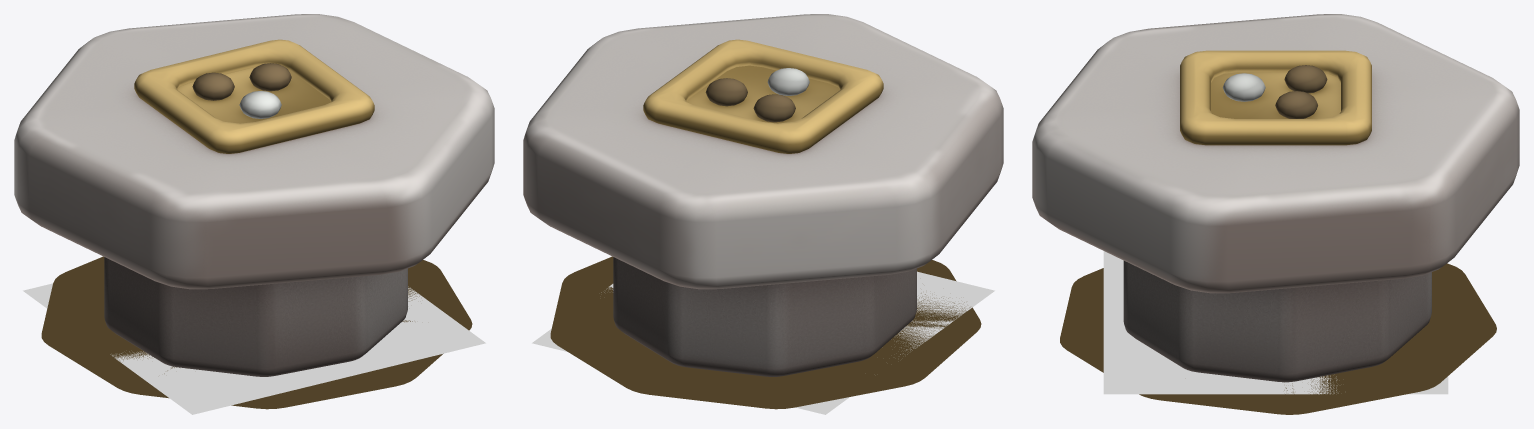
The model's file is JP_RockTable.fbx.
The picture shows the model from 3 angles, left to right: view 1: azimuth 30°, elevation 25°; view 2: azimuth 150°, elevation 25°; view 3: azimuth 270°, elevation 25°; orthographic projection.
Parts seen in each view (by area): view 1: polySurface6, polySurface3, Shadow, RockTable_Grid; view 2: polySurface6, Shadow, polySurface3, RockTable_Grid; view 3: polySurface6, polySurface3, Shadow, RockTable_Grid.
Boxes of the visible parts, box(x1,y1,x2,y2) form: polySurface6: box(14, 14, 494, 376); polySurface3: box(134, 39, 374, 153); Shadow: box(41, 256, 472, 409); RockTable_Grid: box(23, 283, 485, 414); polySurface6: box(523, 14, 1003, 376); Shadow: box(550, 256, 981, 409); polySurface3: box(643, 39, 883, 153); RockTable_Grid: box(532, 271, 994, 414); polySurface6: box(1032, 14, 1519, 382); polySurface3: box(1180, 50, 1371, 145); Shadow: box(1060, 263, 1496, 414); RockTable_Grid: box(1103, 251, 1448, 394).
Size of the model in its own units: 1.37 by 0.77 by 1.41.
